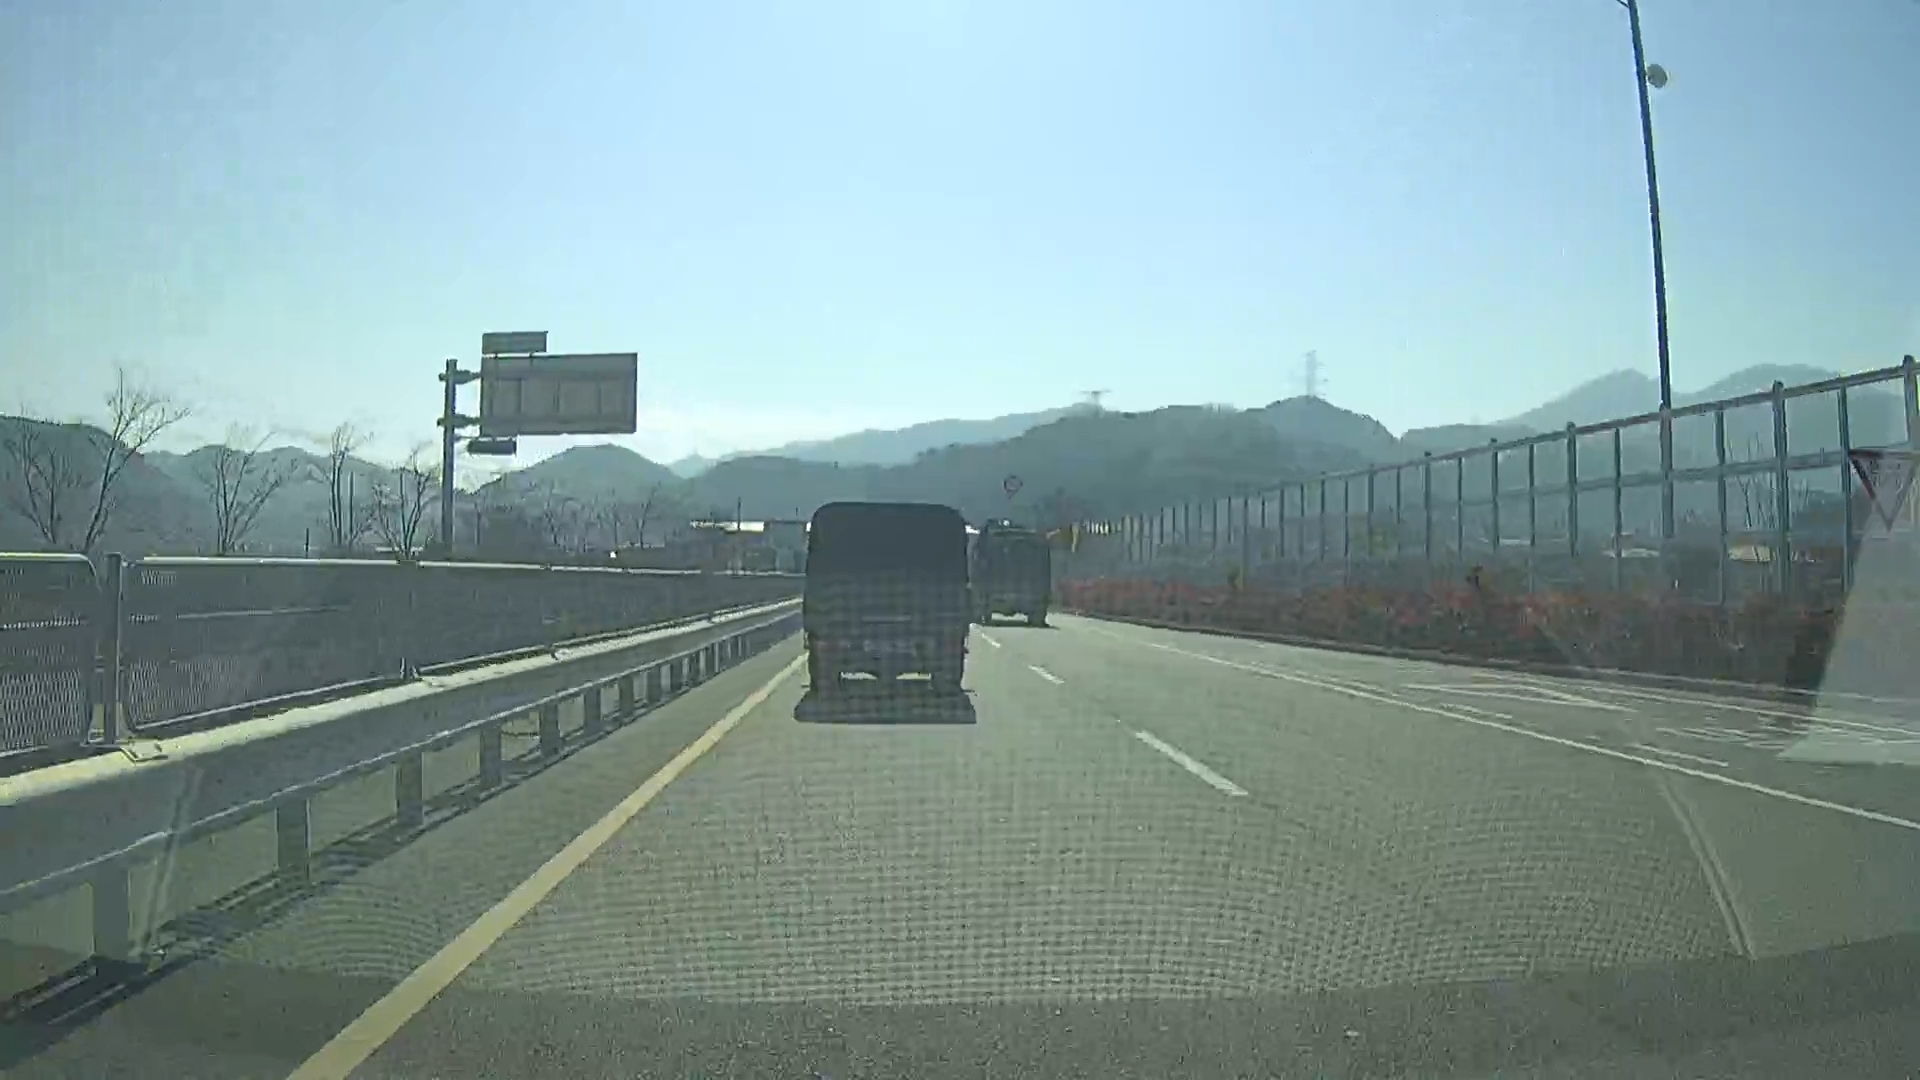trafficSignCircle: (1006, 473, 1021, 488)
trafficSignTri: (1855, 444, 1917, 527)
